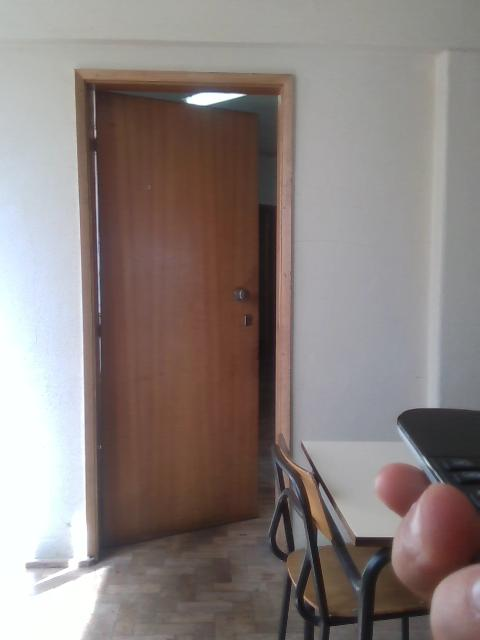door: (95, 87, 261, 558)
